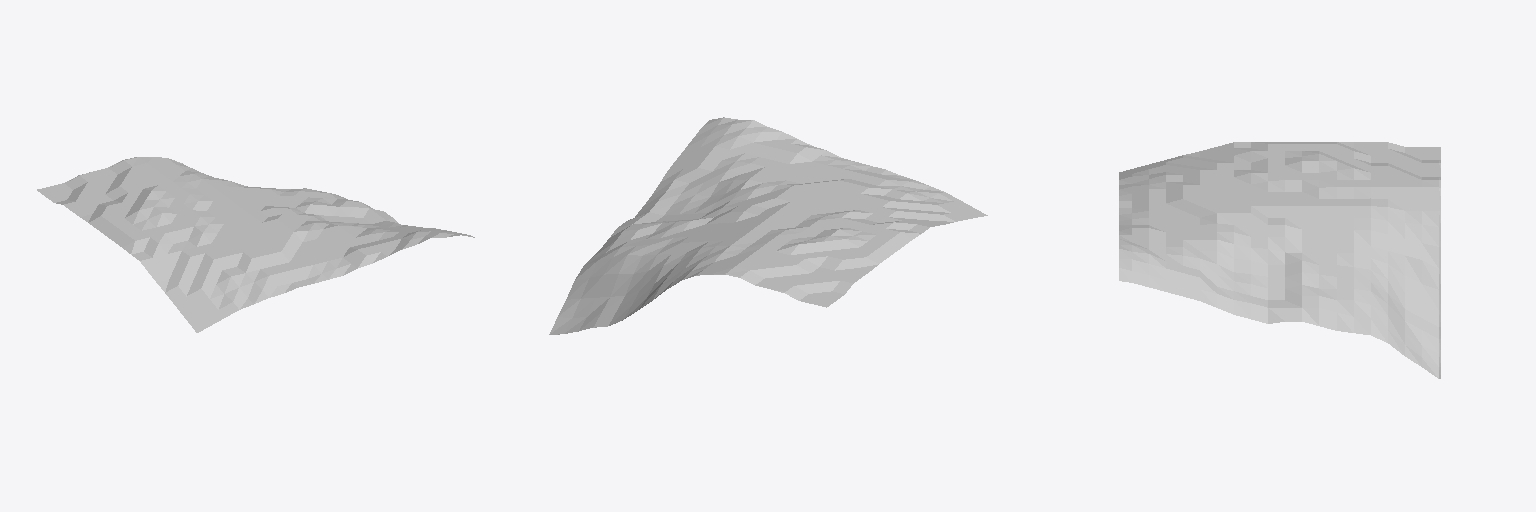
The model's file is terrain_-28_20.obj.
The picture shows the model from 3 angles: view 1: azimuth 30°, elevation 25°; view 2: azimuth 150°, elevation 25°; view 3: azimuth 270°, elevation 25°; orthographic projection.
Parts seen in each view (by area): view 1: terrain_-28_20_Plane.024; view 2: terrain_-28_20_Plane.024; view 3: terrain_-28_20_Plane.024.
Part boxes in pixels (bbox=[...]): terrain_-28_20_Plane.024: bbox=[37, 157, 474, 332]; terrain_-28_20_Plane.024: bbox=[549, 117, 987, 334]; terrain_-28_20_Plane.024: bbox=[1119, 142, 1440, 378].
Size of the model in its own units: 32 by 12.05 by 32.